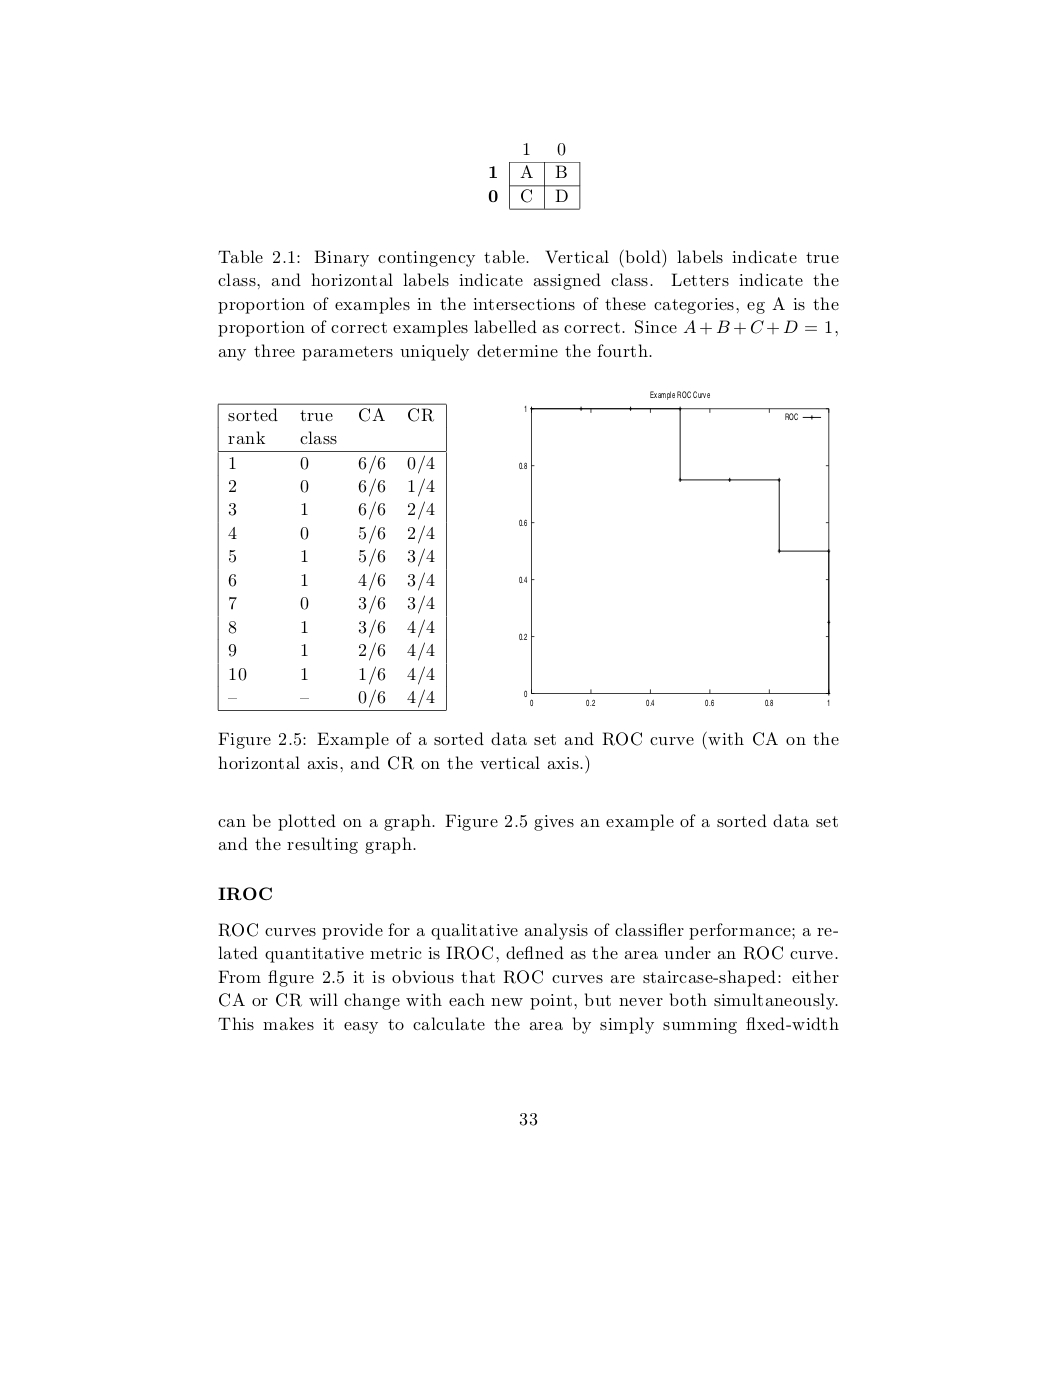Table: (217, 403, 446, 710), (488, 143, 580, 210)
figure: (519, 391, 830, 705)
